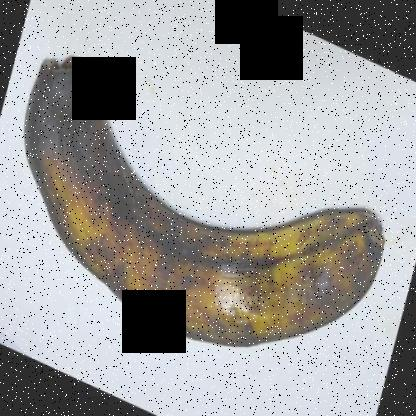overripe: (17, 45, 395, 367)
